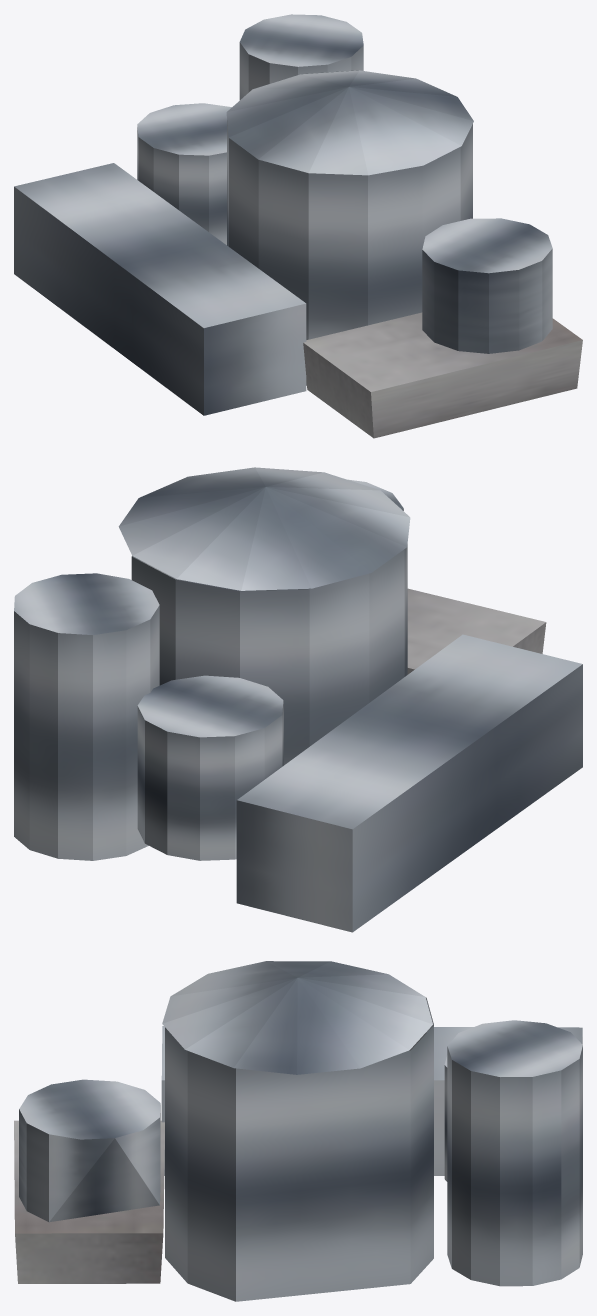
Rendered from superlab_mixer.obj.
3 renders of one model, top to bottom at view 1: azimuth 30°, elevation 25°; view 2: azimuth 150°, elevation 25°; view 3: azimuth 270°, elevation 25°, orthographic. The views are drawn at different scales.
Parts seen in each view (by area): view 1: Cube.001; view 2: Cube.001; view 3: Cube.001.
Part boxes in pixels (bbox=[...]): Cube.001: bbox=[14, 14, 582, 438]; Cube.001: bbox=[14, 467, 582, 932]; Cube.001: bbox=[14, 961, 582, 1301].
Bounding box in the file's own units: 1.13 × 0.8542 × 1.61.
Materials: 1 (1 with a texture image).
